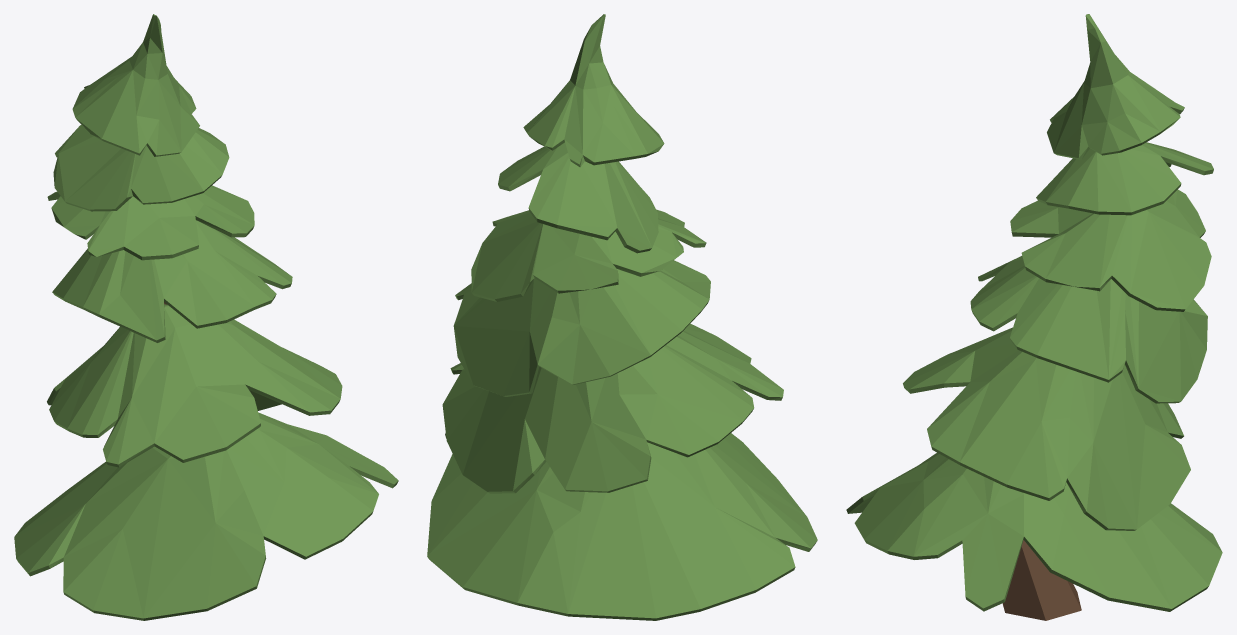
File: PineTree_3.glb
The picture shows the model from 3 angles, left to right: view 1: azimuth 30°, elevation 25°; view 2: azimuth 150°, elevation 25°; view 3: azimuth 270°, elevation 25°; orthographic projection. The views are drawn at different scales.
Parts seen in each view (by area): view 1: PineTree_3; view 2: PineTree_3; view 3: PineTree_3.
Part boxes in pixels (bbox=[...]): PineTree_3: bbox=[14, 14, 398, 620]; PineTree_3: bbox=[427, 14, 817, 620]; PineTree_3: bbox=[846, 14, 1222, 620].
Bounding box in the file's own units: 2.16 × 3.3 × 1.95.
